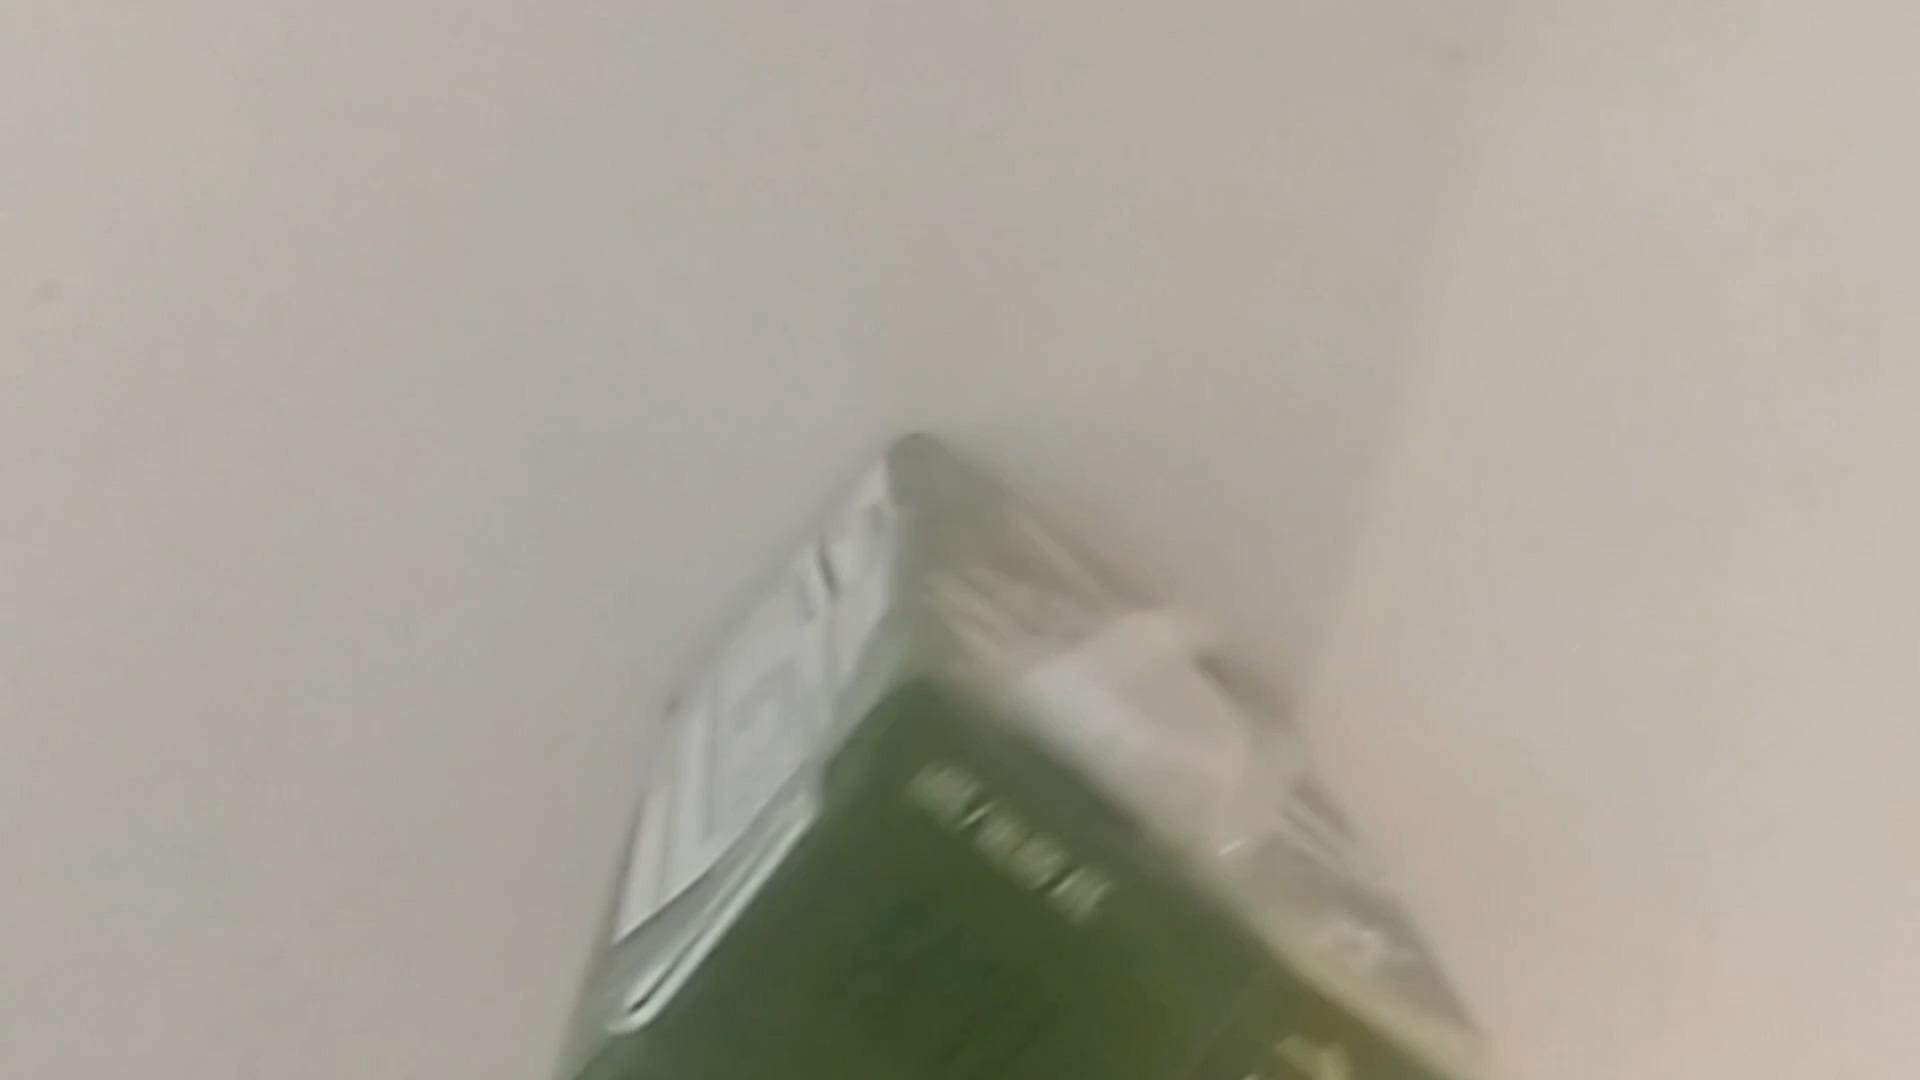coco: (540, 427, 1482, 1080)
